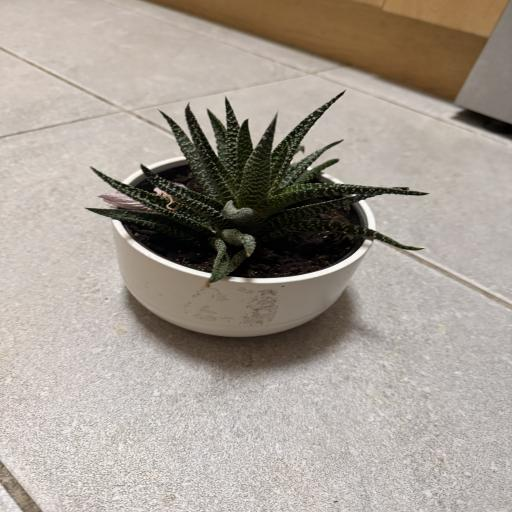Plant Pot: (105, 151, 377, 339)
